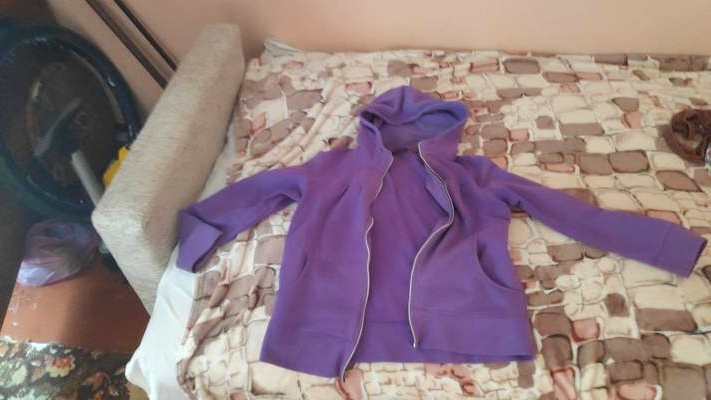Hoodie: (170, 72, 709, 373)
